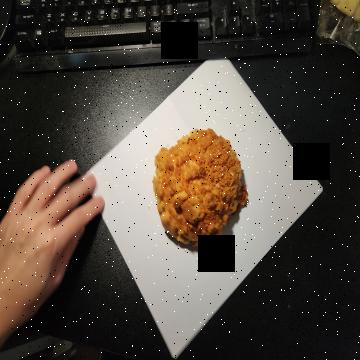soboru_bread: (152, 129, 244, 250)
